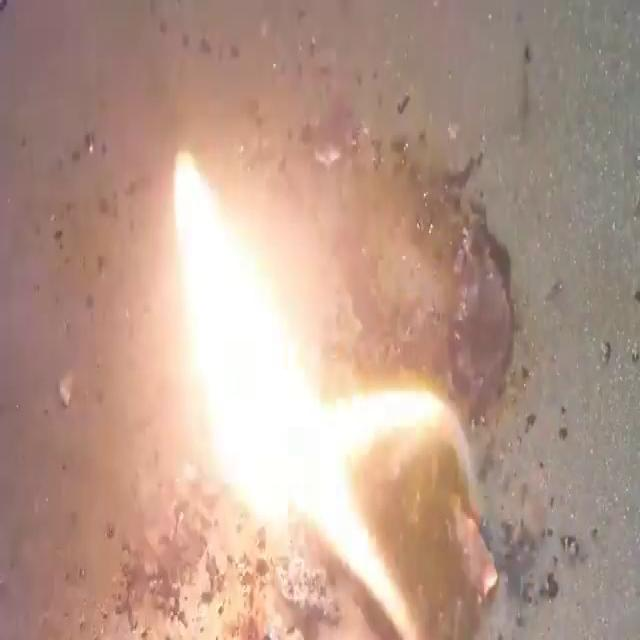Fire: (168, 143, 496, 636)
